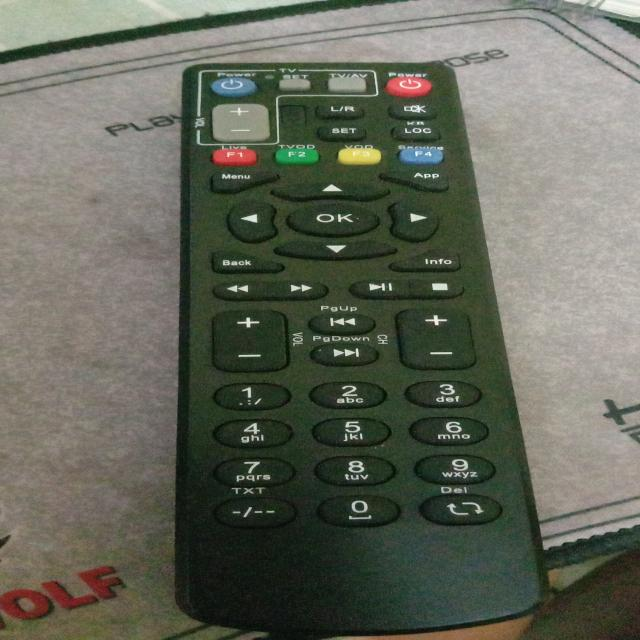remote: (134, 55, 538, 640)
